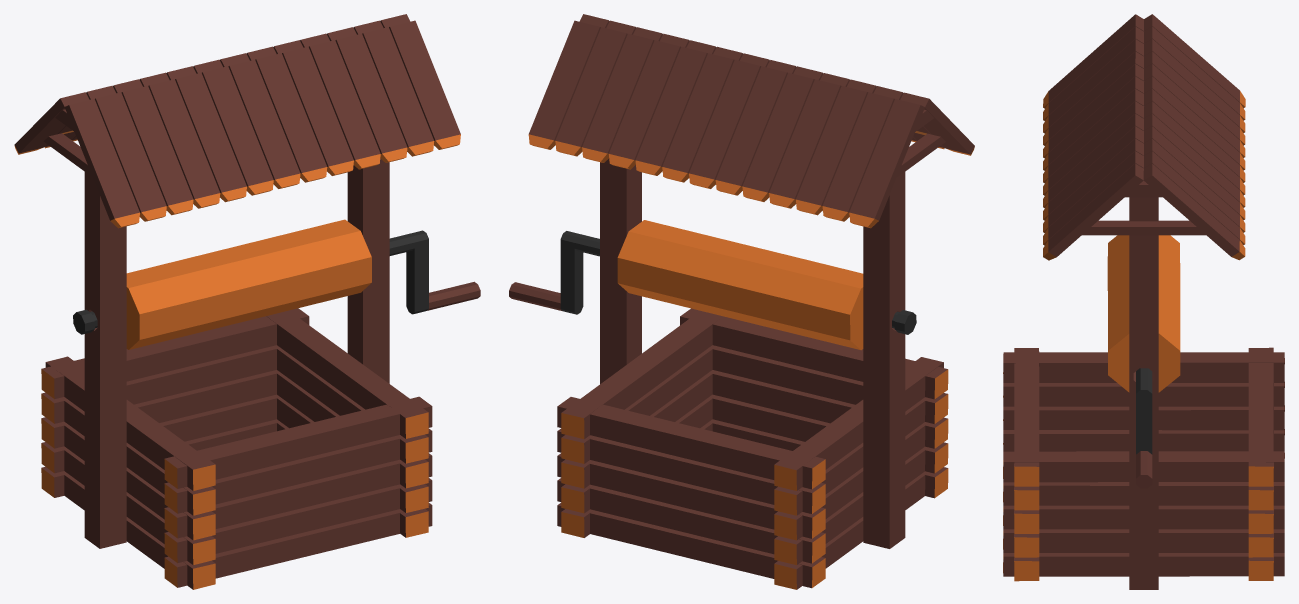
File: well_with_roof.fbx
3 renders of one model, left to right at view 1: azimuth 30°, elevation 25°; view 2: azimuth 150°, elevation 25°; view 3: azimuth 270°, elevation 25°, orthographic. The views are drawn at different scales.
Visible parts, largest first — view 1: well, roof, roll; view 2: well, roof, roll; view 3: well, roof, roll.
Part boxes in pixels (x1=…): well: x1=41, y1=158, x2=432, y2=589; roof: x1=14, y1=14, x2=460, y2=228; roll: x1=73, y1=219, x2=480, y2=349; well: x1=557, y1=158, x2=948, y2=589; roof: x1=528, y1=14, x2=974, y2=228; roll: x1=509, y1=220, x2=916, y2=350; well: x1=1003, y1=197, x2=1284, y2=589; roof: x1=1043, y1=14, x2=1245, y2=260; roll: x1=1107, y1=235, x2=1180, y2=488.
Bounding box in the file's own units: 151 × 158 × 93.93.
